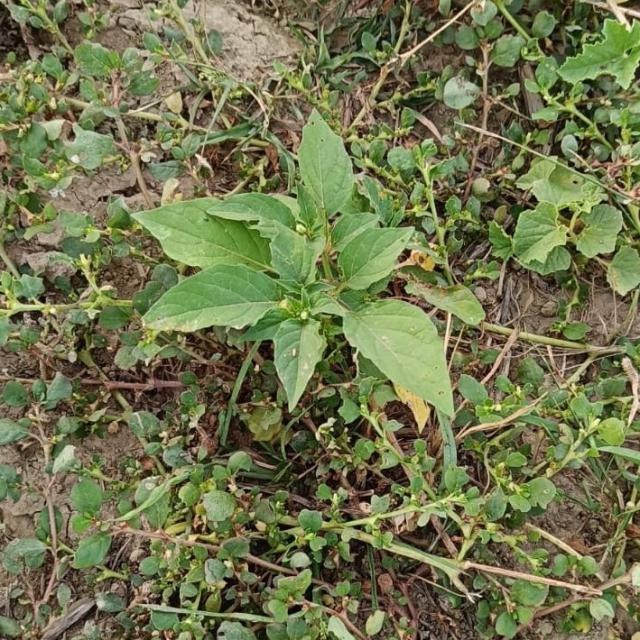weed: (135, 111, 486, 418), (490, 160, 625, 273)
